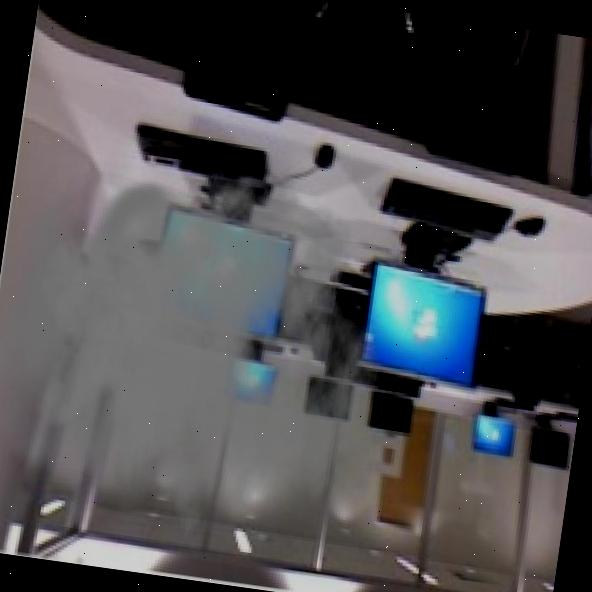smoke: (6, 221, 243, 488)
